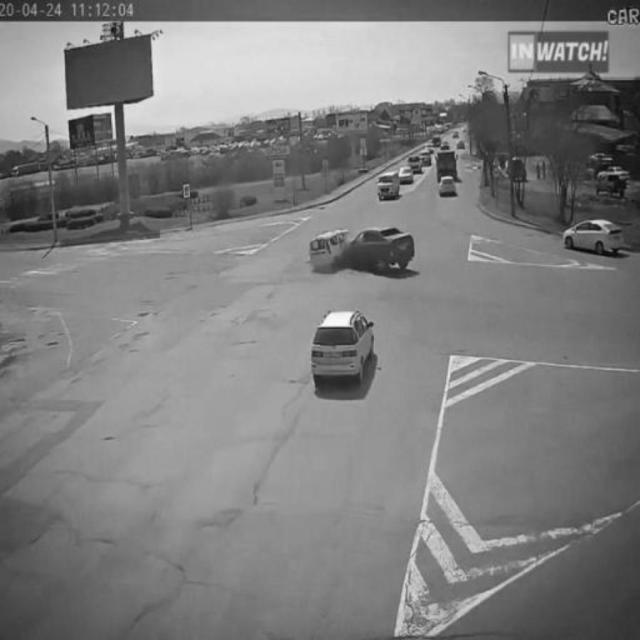accident: (309, 222, 417, 276)
vehicle: (306, 308, 374, 396), (563, 220, 627, 254), (375, 173, 403, 201), (436, 151, 462, 179)
